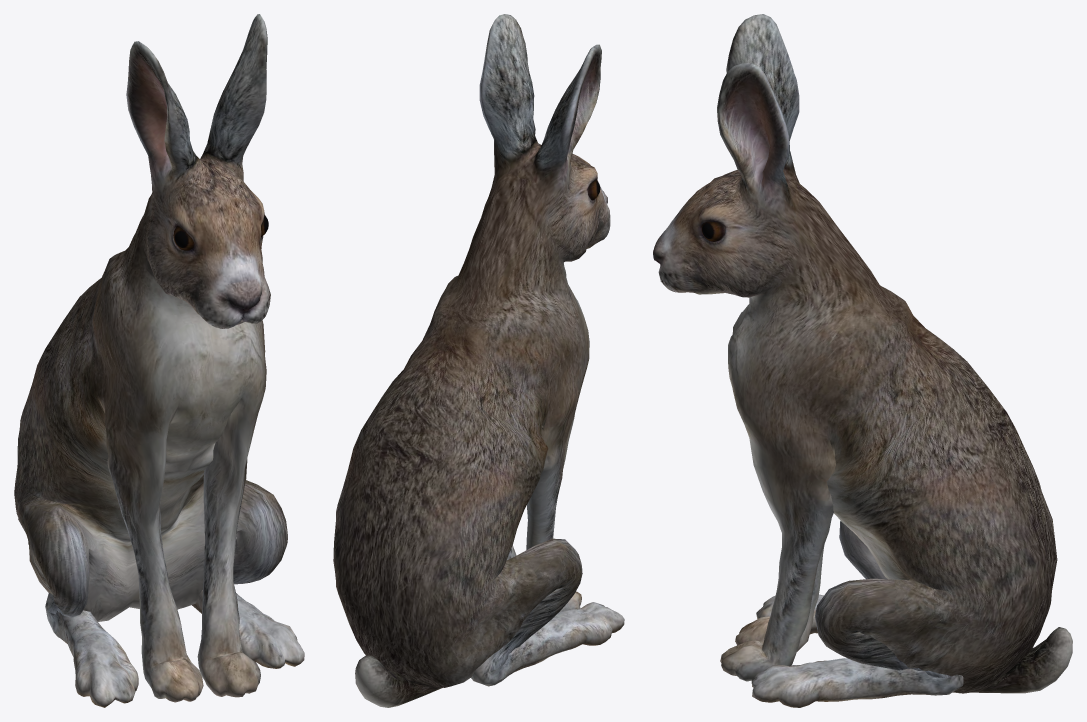
The model's file is a_rabbit.glb.
3 views of the same model, side by side, from view 1: azimuth 30°, elevation 25°; view 2: azimuth 150°, elevation 25°; view 3: azimuth 270°, elevation 25° (orthographic). The views are drawn at different scales.
Parts seen in each view (by area): view 1: Goose.003_applied_clean_M_Goose2_0_M_Rabbit_0; view 2: Goose.003_applied_clean_M_Goose2_0_M_Rabbit_0; view 3: Goose.003_applied_clean_M_Goose2_0_M_Rabbit_0.
Part boxes in pixels (<box>): Goose.003_applied_clean_M_Goose2_0_M_Rabbit_0: <box>14,14,304,707</box>; Goose.003_applied_clean_M_Goose2_0_M_Rabbit_0: <box>333,14,624,707</box>; Goose.003_applied_clean_M_Goose2_0_M_Rabbit_0: <box>653,14,1072,707</box>.
Bounding box in the file's own units: 0.1592 × 0.45 × 0.269.
Materials: 1 (1 with a texture image).
